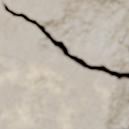brick: (0, 4, 128, 128), (4, 0, 128, 71)
crack: (0, 0, 128, 79)
